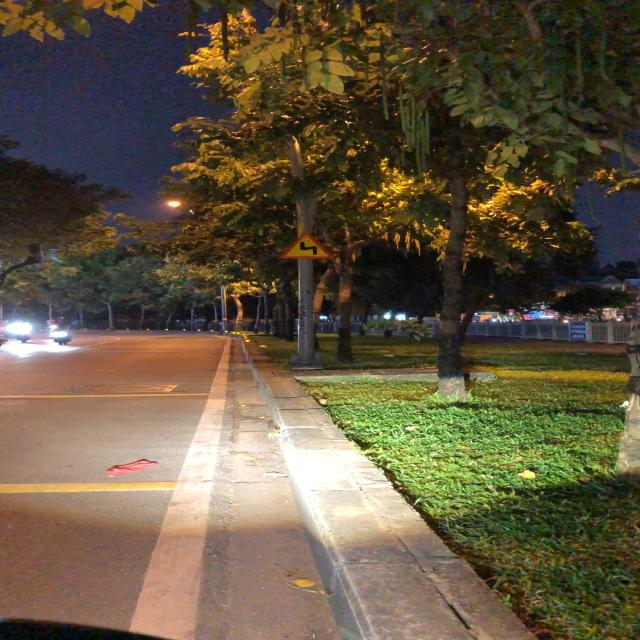Bien bao nhieu cho ngoat nguy hiem lien tiep: (276, 233, 337, 262)
